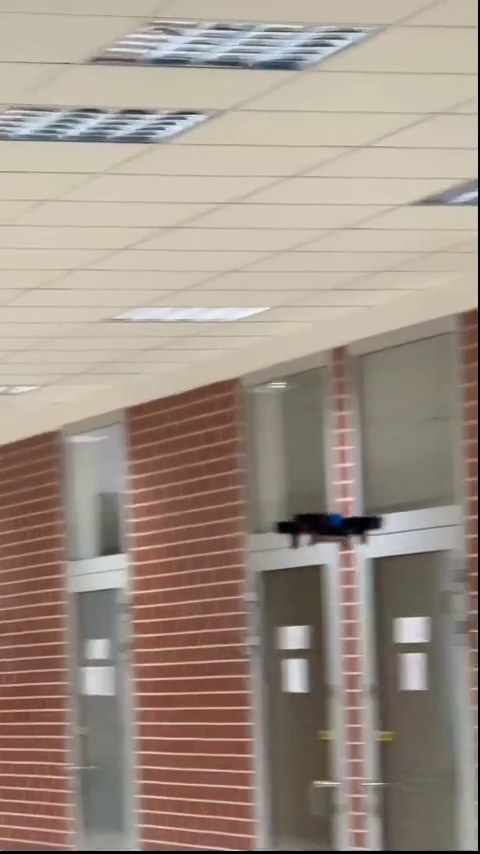drone: (273, 507, 375, 549)
